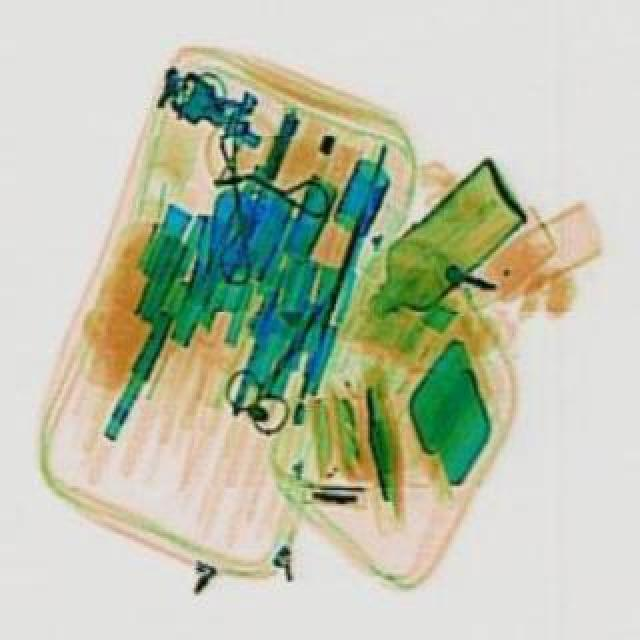pliers: (208, 278, 356, 436)
